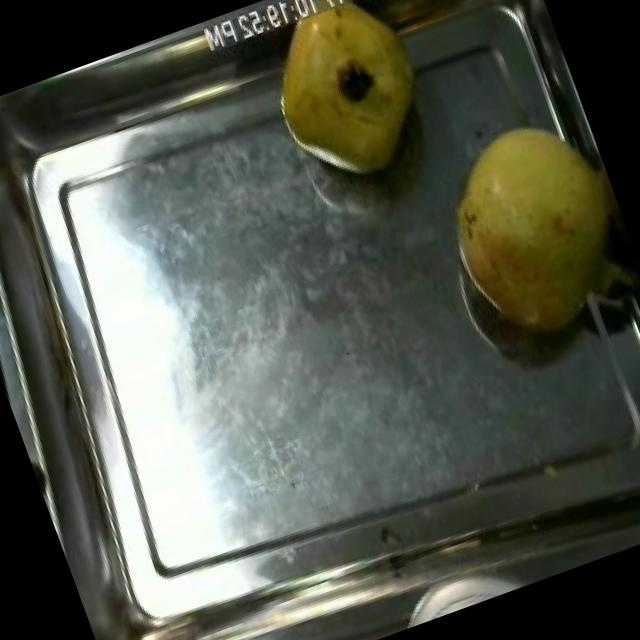fruit: (411, 85, 640, 363), (243, 0, 453, 201)
